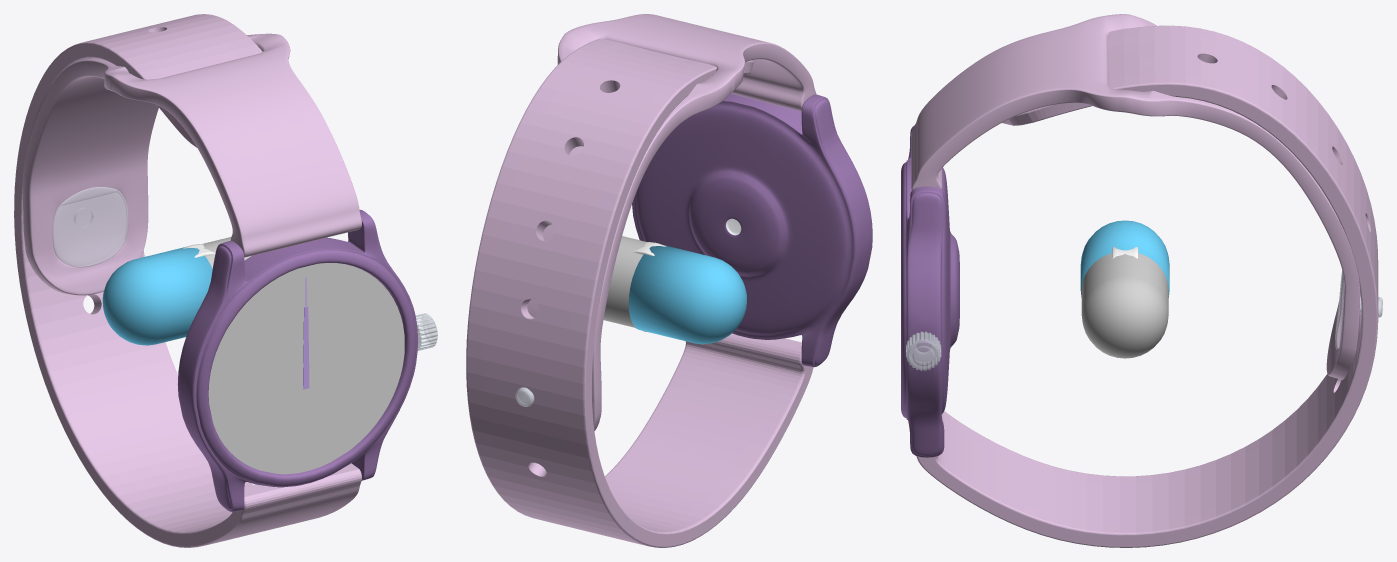
File: caregem.glb
3 renders of one model, left to right at view 1: azimuth 30°, elevation 25°; view 2: azimuth 150°, elevation 25°; view 3: azimuth 270°, elevation 25°, orthographic.
Visible parts, largest first — view 1: strap.002, strap, screen, watch, capsuleColor, strap magnet, crown; view 2: strap, watch, strap.002, capsuleColor, capsuleWhite; view 3: strap, strap.002, watch, capsuleWhite, capsuleColor, crown.
Boxes of the visible parts, <box> form: strap.002: <box>23,33,361,295</box>; strap: <box>14,14,361,547</box>; screen: <box>208,263,404,474</box>; watch: <box>177,209,417,511</box>; capsuleColor: <box>102,246,212,345</box>; strap magnet: <box>52,187,128,267</box>; crown: <box>415,313,437,350</box>; strap: <box>466,39,813,547</box>; watch: <box>632,93,872,367</box>; strap.002: <box>518,14,816,430</box>; capsuleColor: <box>628,245,746,344</box>; capsuleWhite: <box>603,236,646,327</box>; strap: <box>916,25,1378,547</box>; strap.002: <box>911,14,1360,379</box>; watch: <box>901,126,959,457</box>; capsuleWhite: <box>1081,253,1168,358</box>; capsuleColor: <box>1080,220,1169,297</box>; crown: <box>906,331,941,370</box>.
Bounding box in the file's own units: 1.95 × 3.47 × 3.26.
